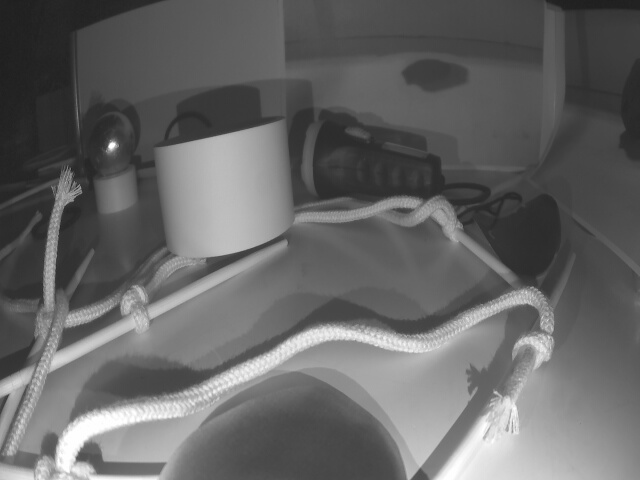Live: (83, 114, 137, 171)
